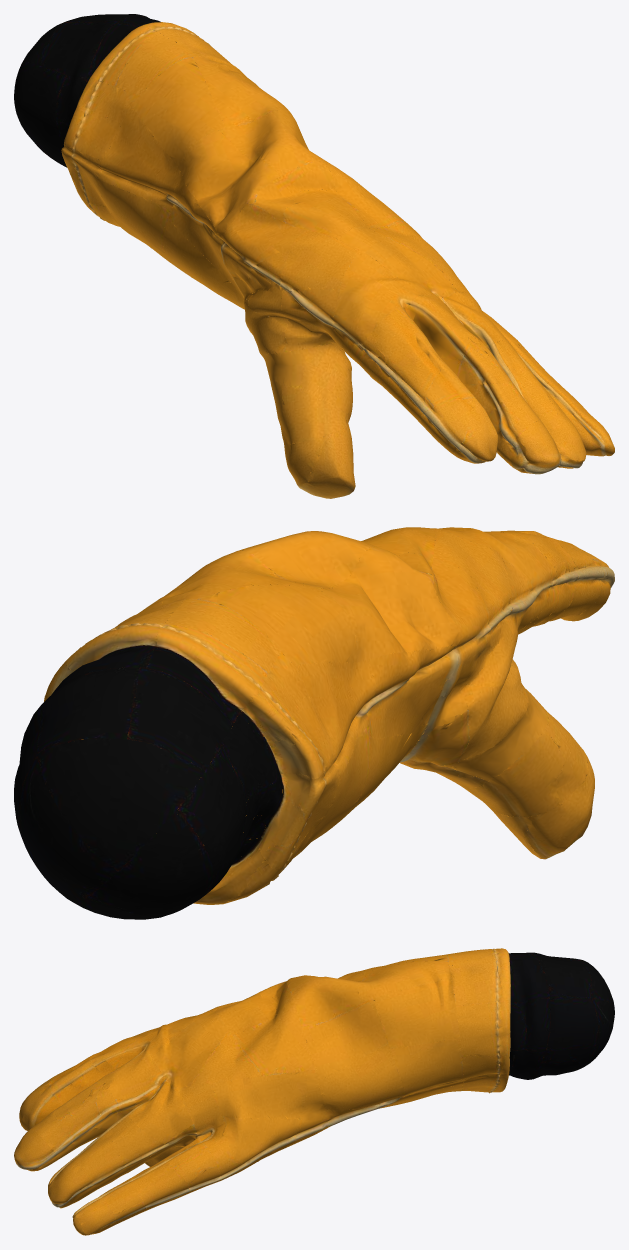
Rendered from glove.glb.
The picture shows the model from 3 angles, top to bottom: view 1: azimuth 30°, elevation 25°; view 2: azimuth 150°, elevation 25°; view 3: azimuth 270°, elevation 25°; orthographic projection. The views are drawn at different scales.
Parts seen in each view (by area): view 1: Meshy_Yellow Welding Glove_mesh_node; view 2: Meshy_Yellow Welding Glove_mesh_node; view 3: Meshy_Yellow Welding Glove_mesh_node.
Boxes of the visible parts, <box> form: Meshy_Yellow Welding Glove_mesh_node: <box>14,14,614,498</box>; Meshy_Yellow Welding Glove_mesh_node: <box>14,527,614,919</box>; Meshy_Yellow Welding Glove_mesh_node: <box>14,948,614,1235</box>.
Bounding box in the file's own units: 0.9648 × 0.9599 × 2.25.
1 material, 1 textured.
